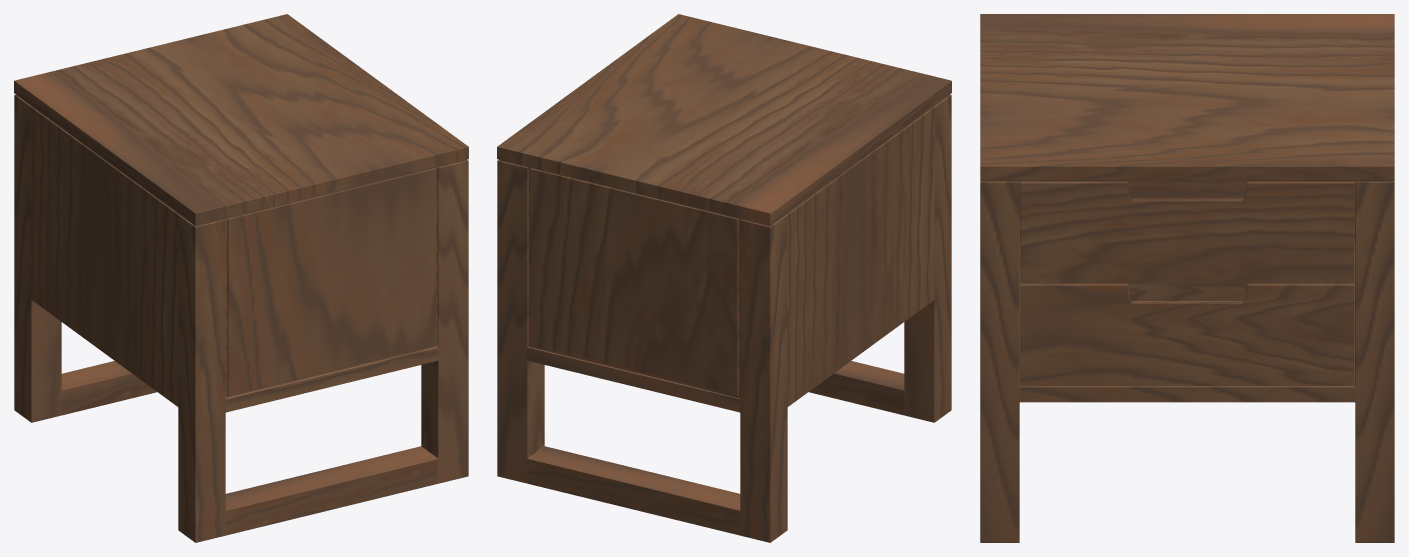
The model's file is bedsideTable2.obj.
The picture shows the model from 3 angles, left to right: view 1: azimuth 30°, elevation 25°; view 2: azimuth 150°, elevation 25°; view 3: azimuth 270°, elevation 25°; orthographic projection. The views are drawn at different scales.
Visible parts, largest first — view 1: Cube.029; view 2: Cube.029; view 3: Cube.029.
Part boxes in pixels (x1,y1,x2,y2): Cube.029: (14,14,468,542); Cube.029: (497,14,951,542); Cube.029: (980,14,1394,542).
Bounding box in the file's own units: 0.3885 × 0.4476 × 0.4462.
